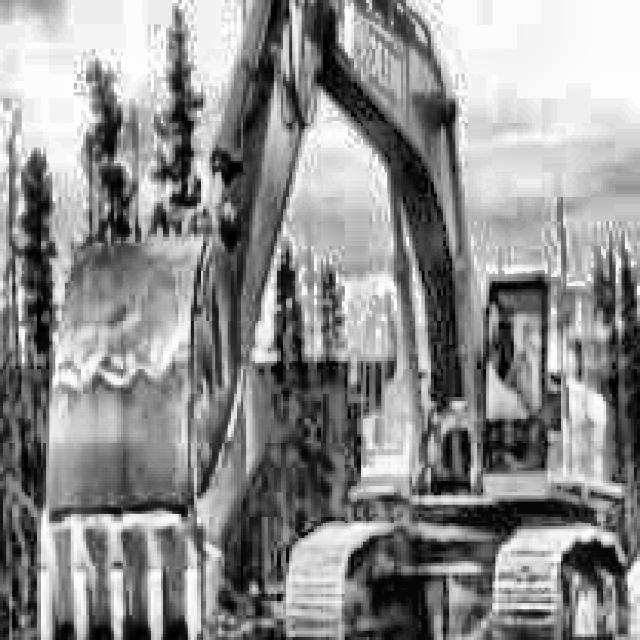excavator: (18, 0, 628, 640)
